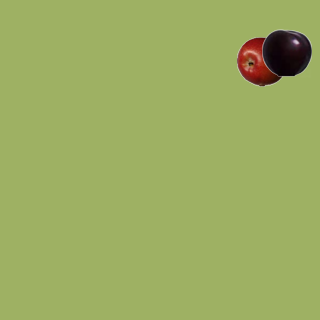Apple Braeburn: (236, 36, 286, 86)
Cherry Wax Black: (261, 27, 311, 77)
